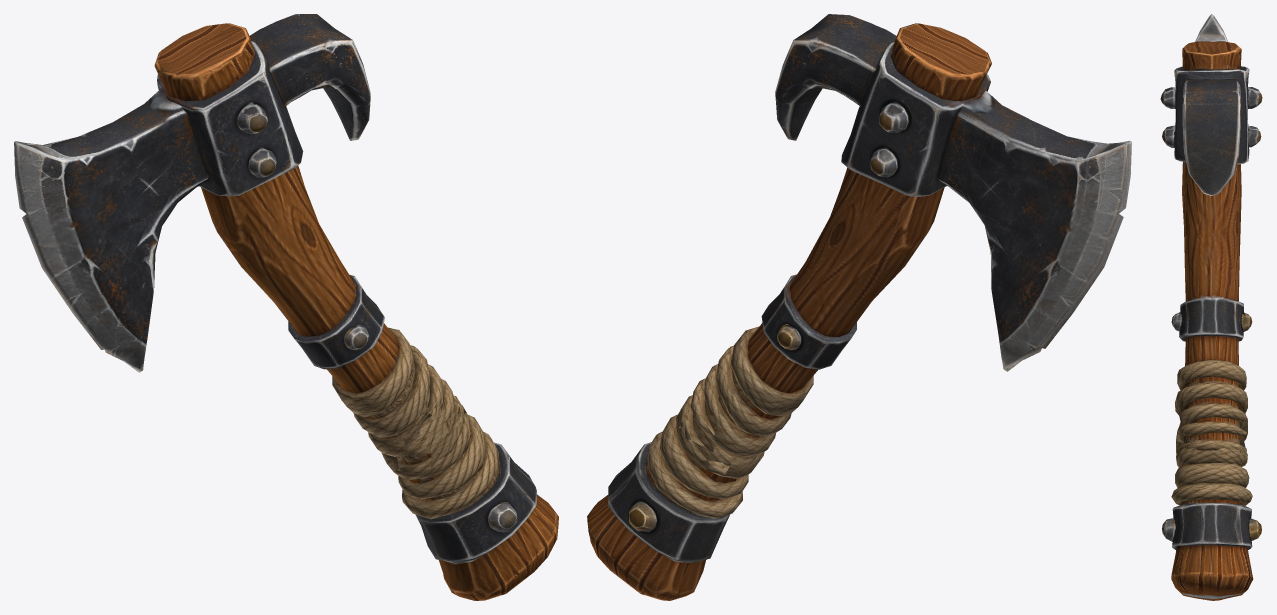
Rendered from salvageAxe.glb.
3 views of the same model, side by side, from view 1: azimuth 30°, elevation 25°; view 2: azimuth 150°, elevation 25°; view 3: azimuth 270°, elevation 25° (orthographic). The views are drawn at different scales.
Bounding box in the file's own units: 0.9062 × 1 × 0.2007.
Materials: 1 (1 with a texture image).
